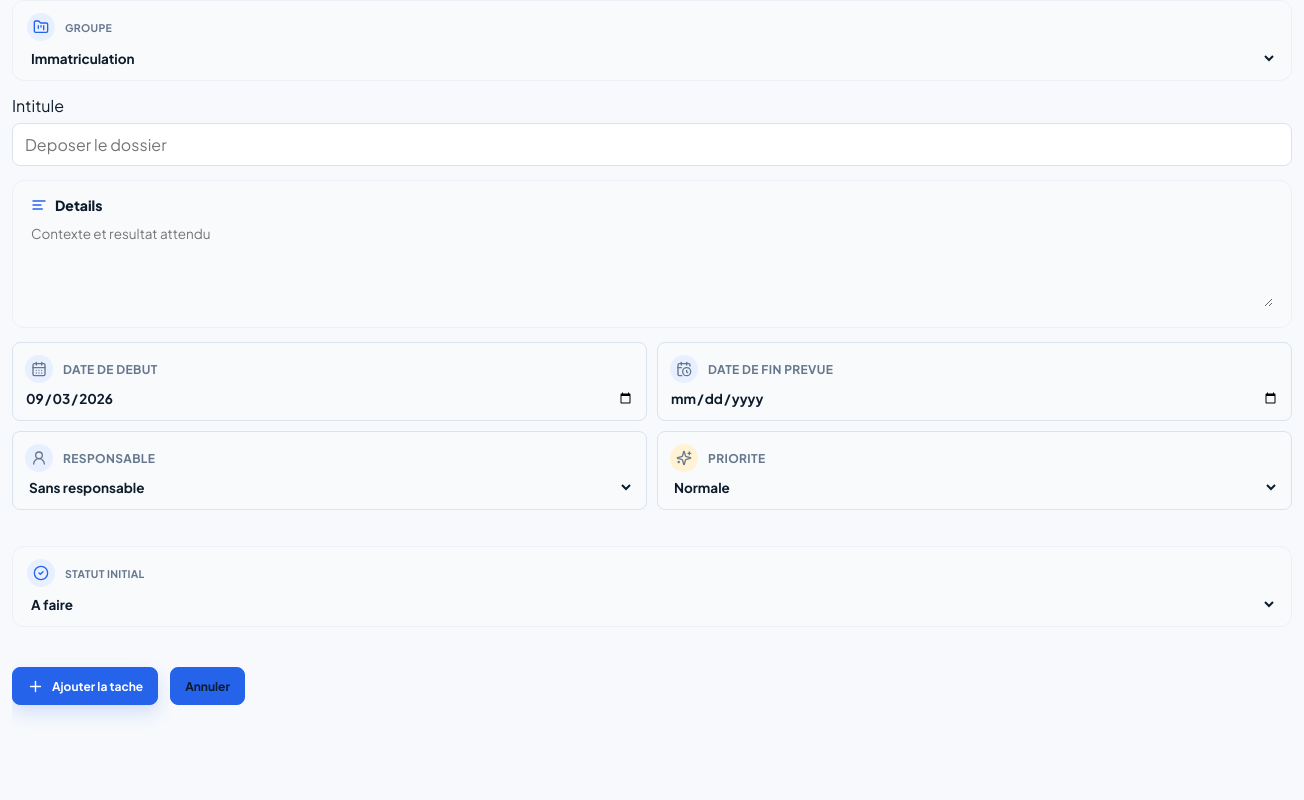
Test: TaskCreateForm › falls back to a generic description when the API rejects without an Error instance
The image size is (1304, 800).
Step 1. Type "Relire le contrat" into the field with placeholder "Deposer le dossier" → (652, 144), box x1=12 y1=123 x2=1292 y2=166
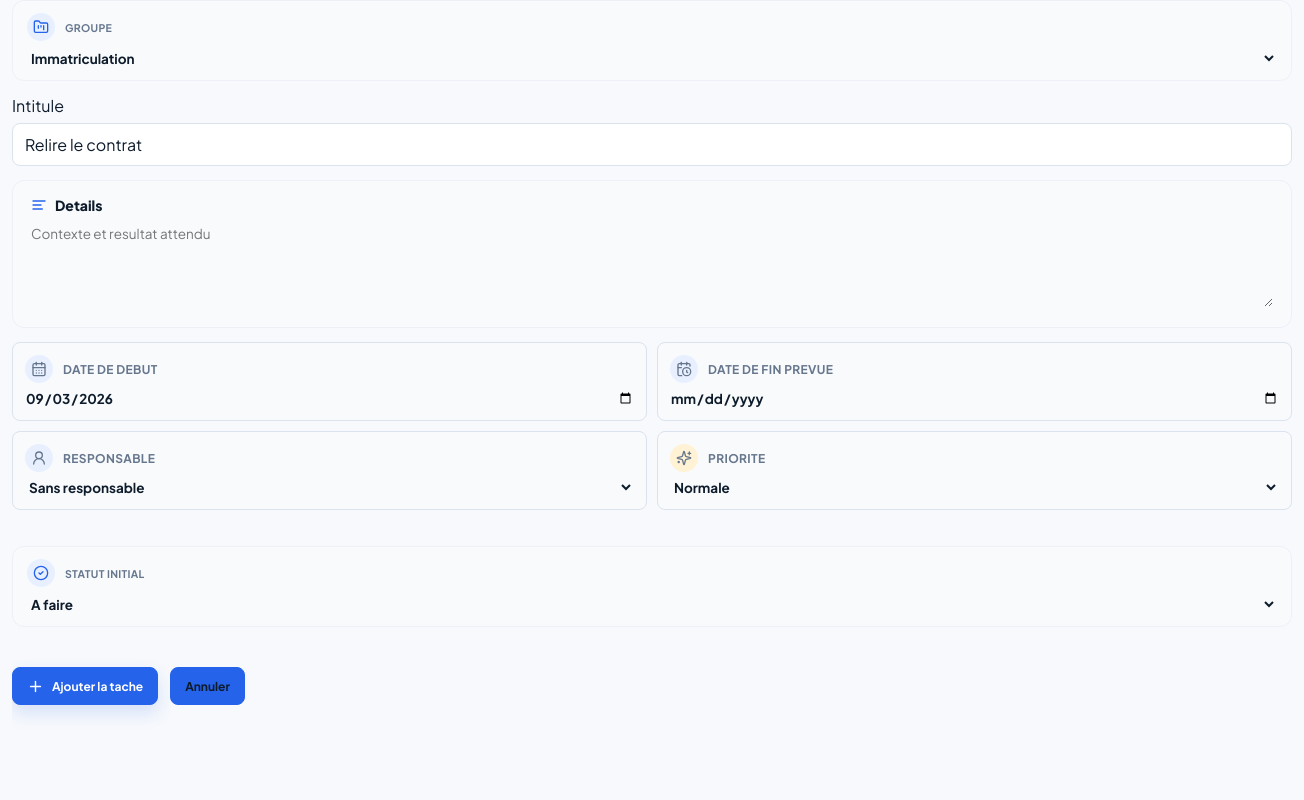
Step 2. Click the button "Ajouter la tache" → click(85, 686), box x1=12 y1=668 x2=158 y2=706
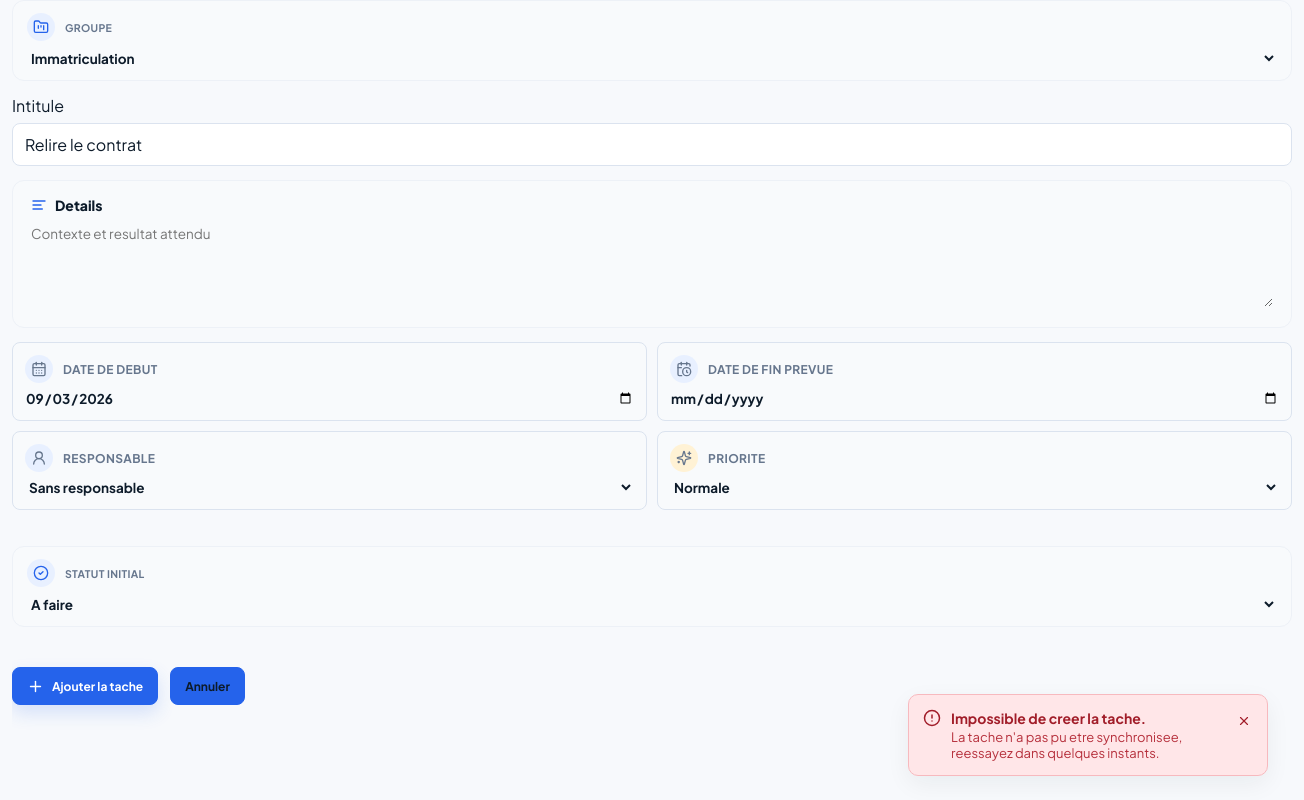
expect the text "Impossible de creer la tache." is shown: met, box x1=951 y1=709 x2=1146 y2=727
expect the text "La tache n'a pas pu etre synchronisee, reessayez dans quelques instants." is shown: met, box x1=951 y1=729 x2=1182 y2=761
